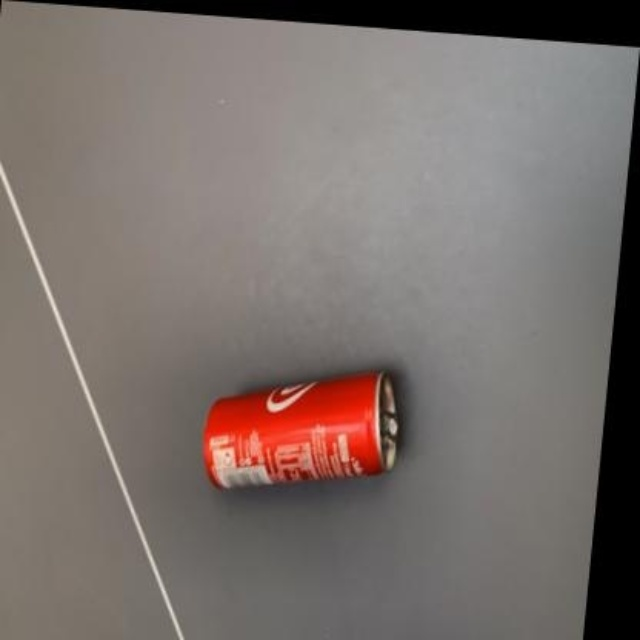trash: (205, 371, 397, 488)
